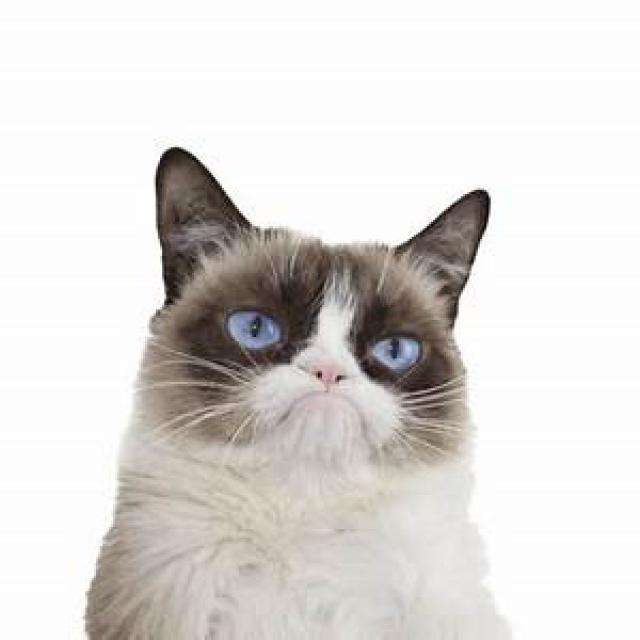KEDI: (94, 140, 506, 640)
